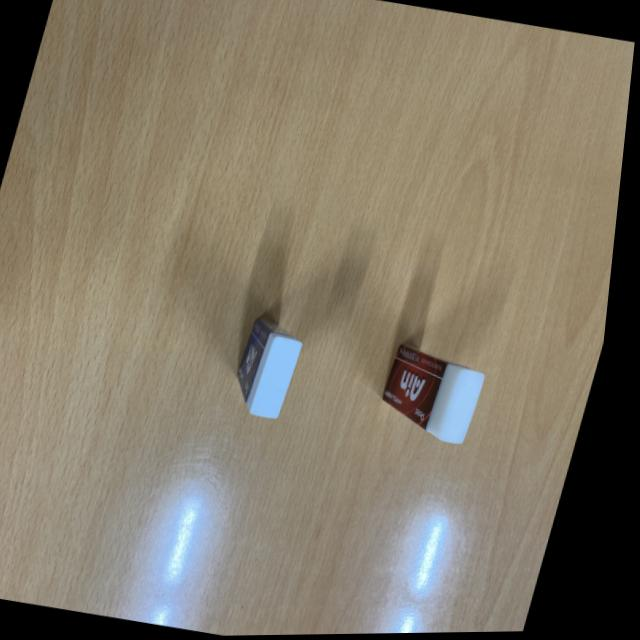blue: (224, 312, 321, 426)
red: (374, 339, 505, 454)
